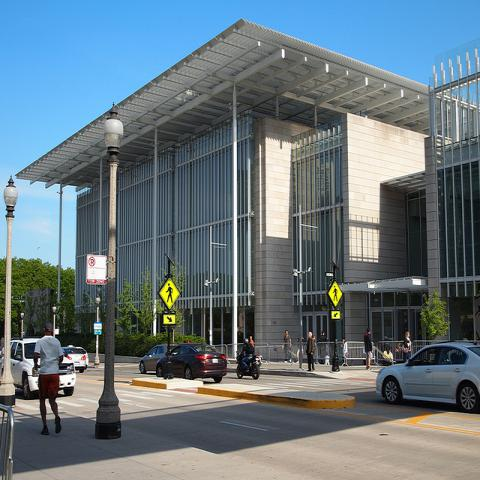car: (376, 343, 479, 419), (0, 338, 77, 400), (155, 343, 227, 383), (139, 344, 167, 374), (63, 346, 88, 372)
motorcycle: (236, 351, 263, 380)
